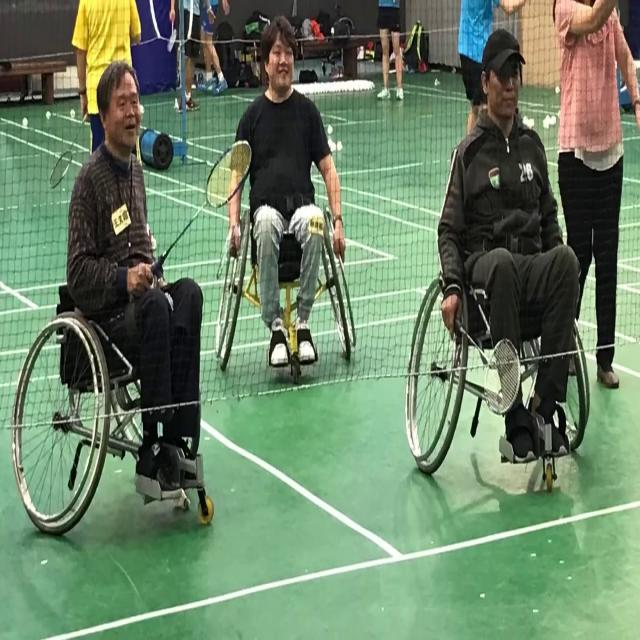wheelchairs: (7, 254, 236, 581), (399, 230, 604, 506), (198, 163, 379, 398)
